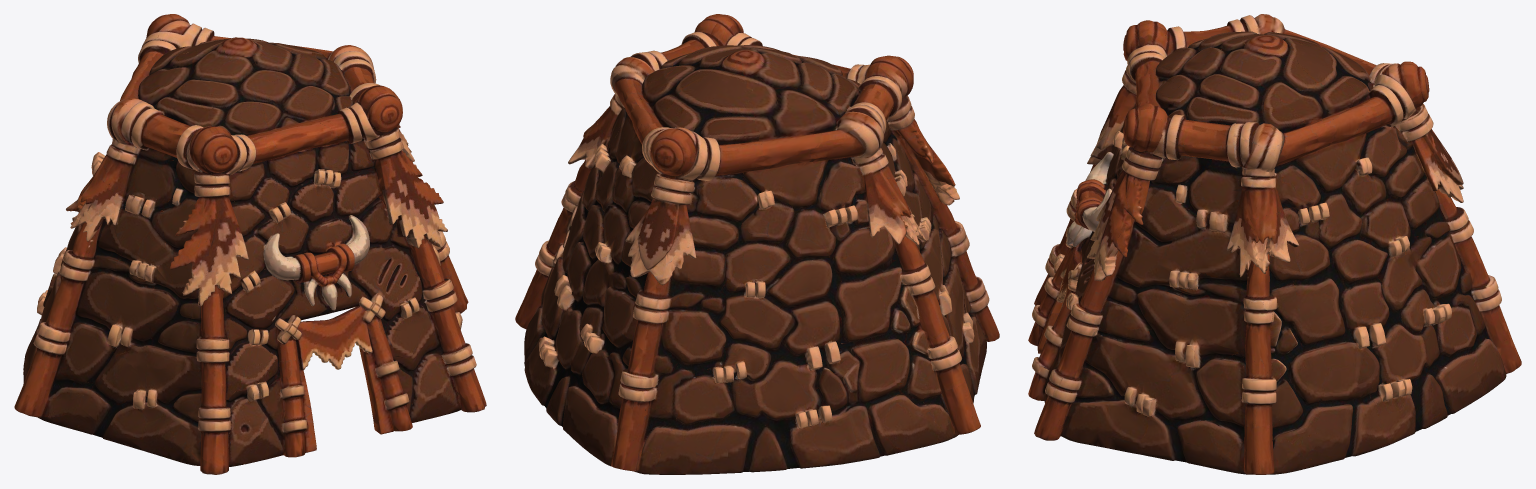
The model's file is hunter_tent.glb.
3 renders of one model, left to right at view 1: azimuth 30°, elevation 25°; view 2: azimuth 150°, elevation 25°; view 3: azimuth 270°, elevation 25°, orthographic. The views are drawn at different scales.
Parts seen in each view (by area): view 1: Mesh_0; view 2: Mesh_0; view 3: Mesh_0.
Boxes of the visible parts, x1,y1,x2,y2 form: Mesh_0: (14,14,486,474); Mesh_0: (515,14,999,474); Mesh_0: (1028,14,1521,474).
Bounding box in the file's own units: 1.9 × 1.3 × 1.74.
1 material, 1 textured.
